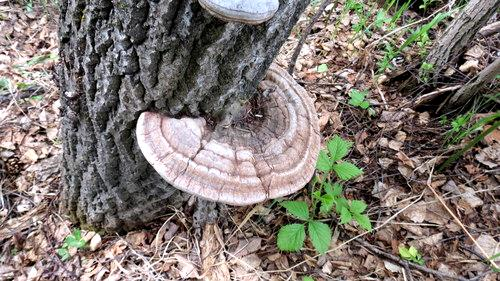Ganoderma - Fruit Body: (136, 60, 321, 207), (197, 0, 281, 25)
